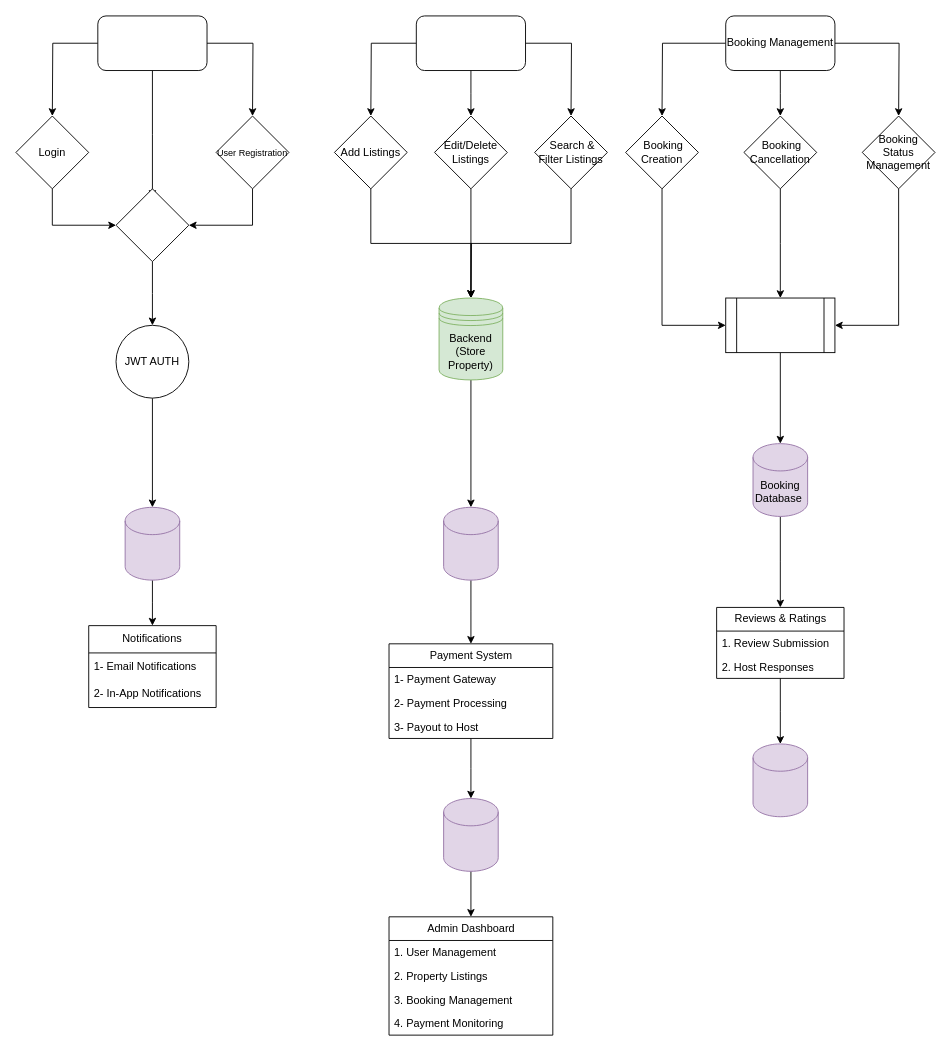
This 951x1054 diagram has some shape labels left out. Each missing label, with the centre of its shape:
"Backend (Check Availability & Create Booking)" goes at (780,325).
"Payment Database" goes at (470,834).
"Profile Management" goes at (152,225).
"Property Database" goes at (470,543).
"Property Listings" goes at (470,43).
"Review Database" goes at (780,780).
"User Database" goes at (152,543).
"User Management" goes at (152,43).
